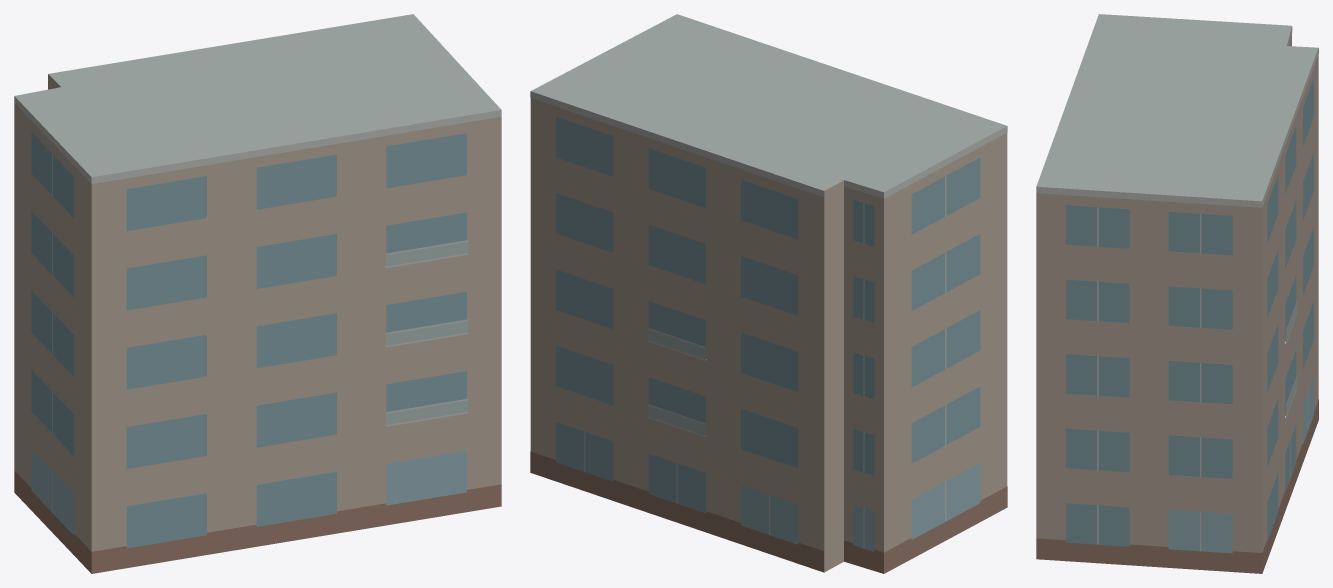
File: survey-upis-32559707.glb
The picture shows the model from 3 angles, left to right: view 1: azimuth 30°, elevation 25°; view 2: azimuth 150°, elevation 25°; view 3: azimuth 270°, elevation 25°; orthographic projection. The views are drawn at different scales.
Visible parts, largest first — view 1: survey-upis-32559707.tmp; view 2: survey-upis-32559707.tmp; view 3: survey-upis-32559707.tmp.
Boxes of the visible parts, left/top/right/bottom form: survey-upis-32559707.tmp: left=14, top=14, right=501, bottom=573; survey-upis-32559707.tmp: left=530, top=14, right=1007, bottom=573; survey-upis-32559707.tmp: left=1036, top=14, right=1318, bottom=573.
Bounding box in the file's own units: 15.22 × 14.1 × 9.7.
